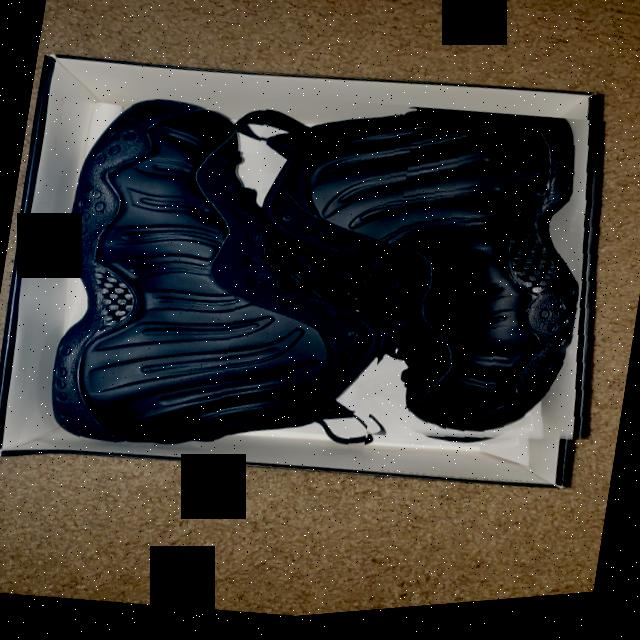shoe: (12, 61, 417, 493), (231, 79, 640, 495)
